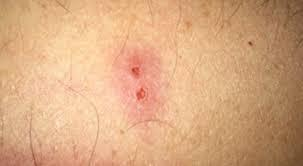Spider: (113, 45, 162, 115)
